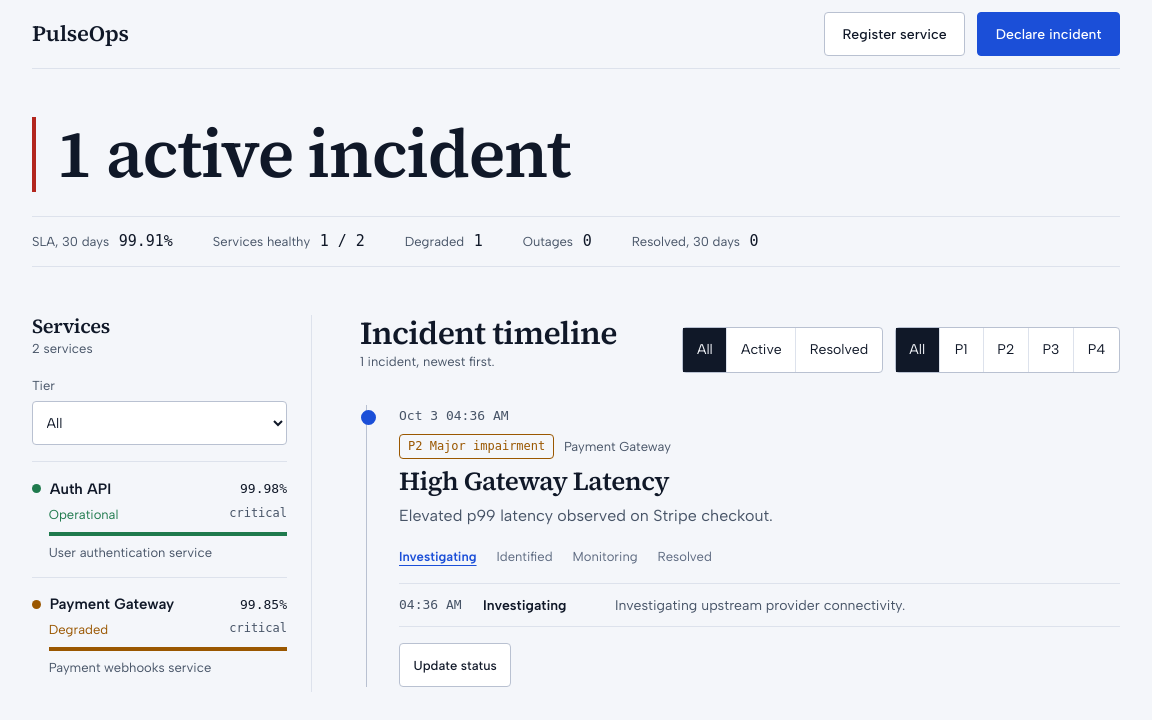
PulseOps Frontend App › lists services with their statuses in the sidebar
Expected: the text "Auth API" is shown, [50,480,111,498]
Expected: the text "Payment Gateway" next to "99.85" is shown, [50,595,174,613]
Select "Internal" in the dropdown labelled "Tier" at (160, 423), box [32,401,287,445]
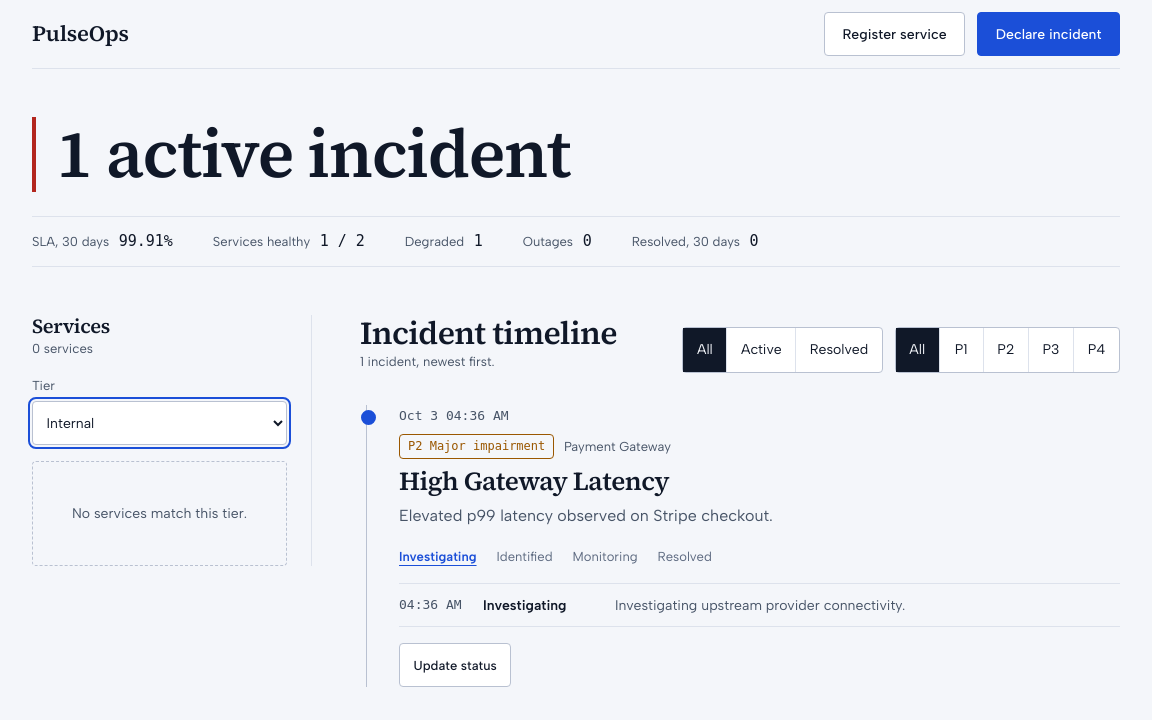
Result: the text "No services match this tier." is shown at [32,461,287,566]
